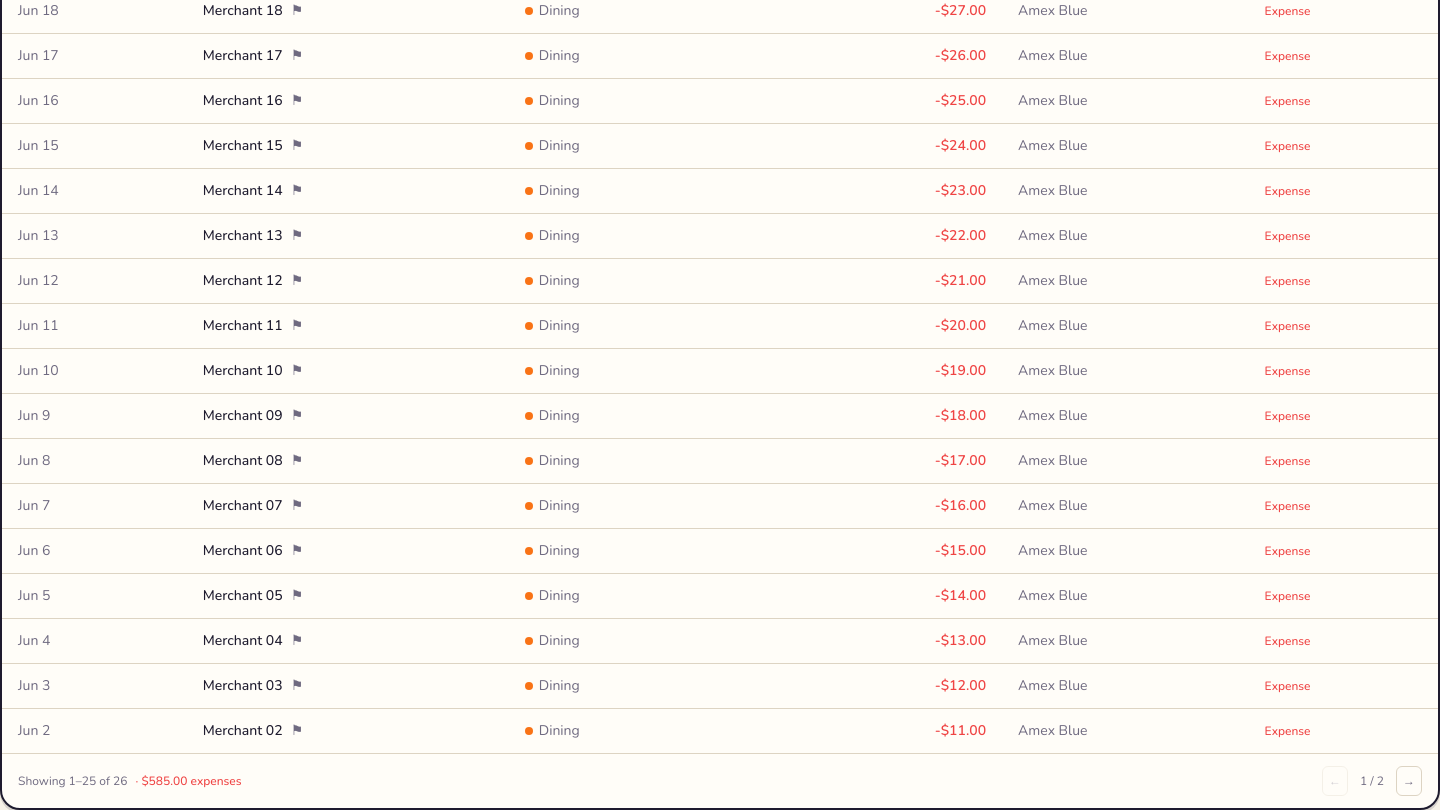
Test case: TransactionTable — pagination › resets to page 1 when search filter changes
(page scrolled)
Navigate to page 2 (Merchant 01 visible in DESC sort)
Click the button named "next page" at (1409, 781), box x1=1396 y1=766 x2=1422 y2=796
(page scrolled)
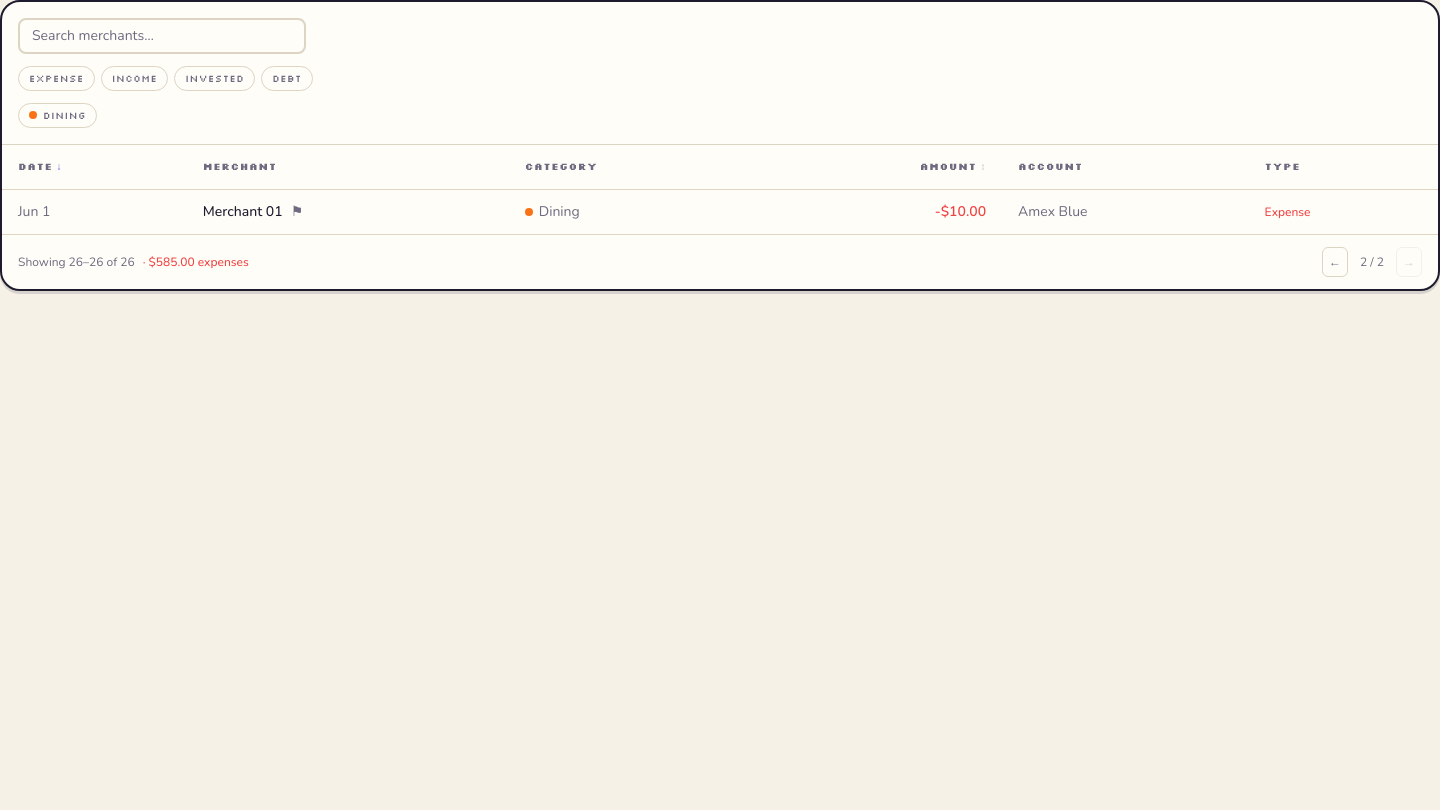
Expected: the text "Merchant 01" is shown, x1=203 y1=202 x2=283 y2=222
Typing resets to page 1
Type "Merchant" into the field with placeholder "Search merchants…" at (162, 36), box x1=18 y1=18 x2=306 y2=54
(page scrolled)
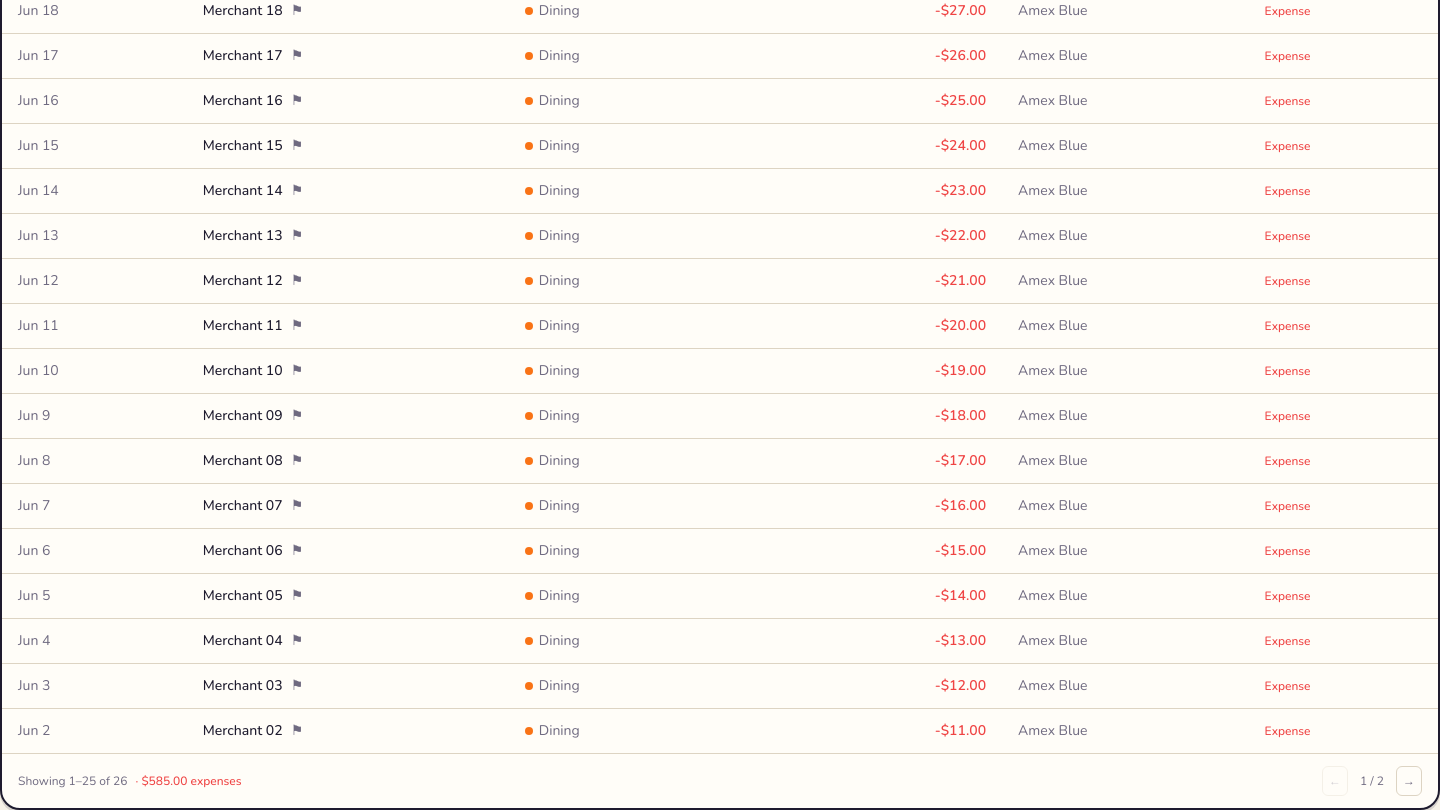
Expected: the text "Showing 1–25 of 26· $585.00 expenses" is shown, x1=18 y1=773 x2=242 y2=789
